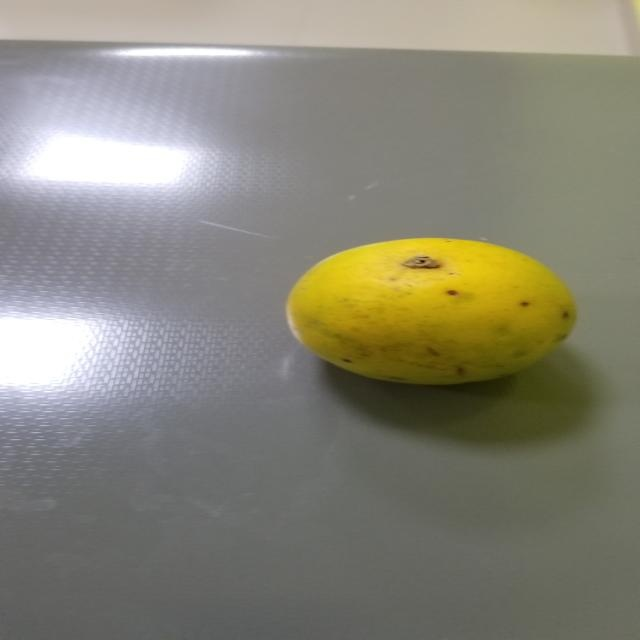agrume: (274, 237, 594, 386)
